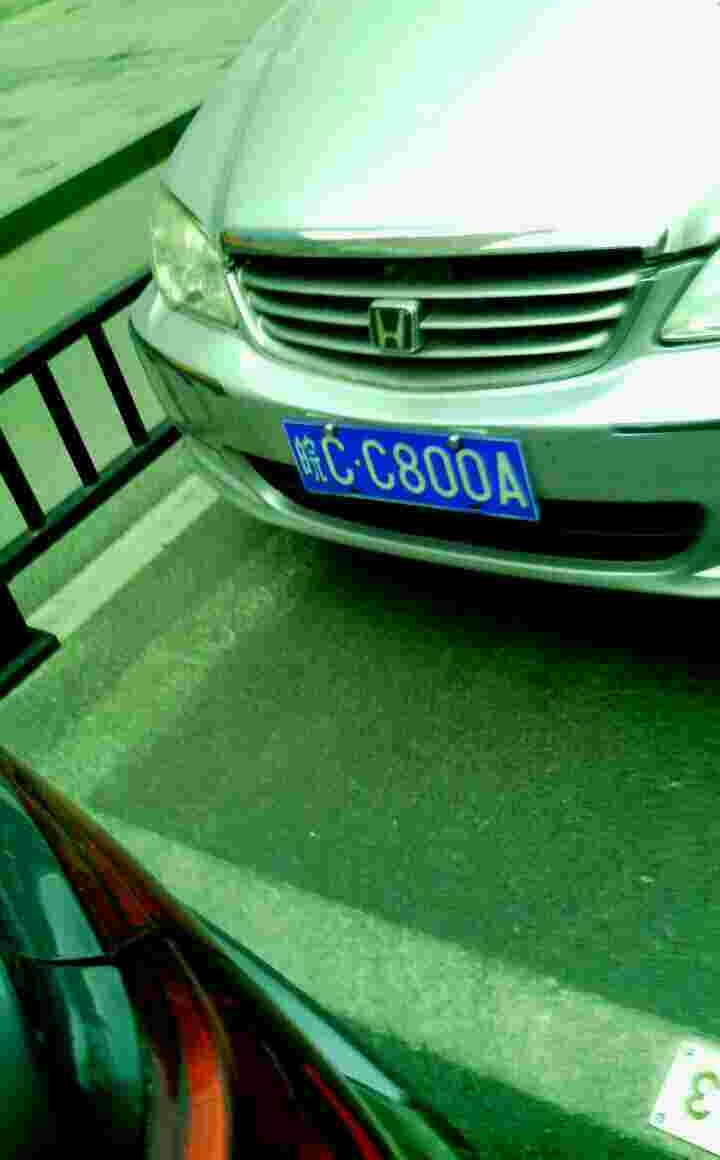license_plate: (290, 420, 537, 526)
